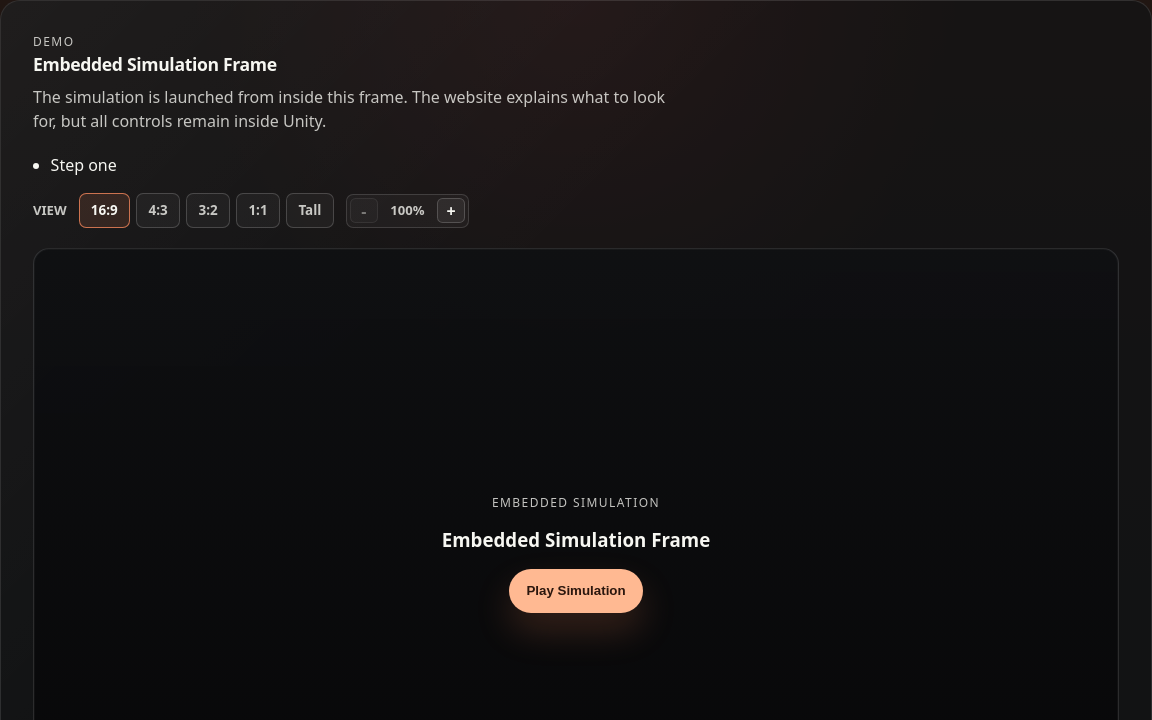
Test: unity embed › lets users increase and decrease the simulator UI size
Click the button named "Increase simulator UI size": coordinates (451, 211) x1=437 y1=198 x2=465 y2=223
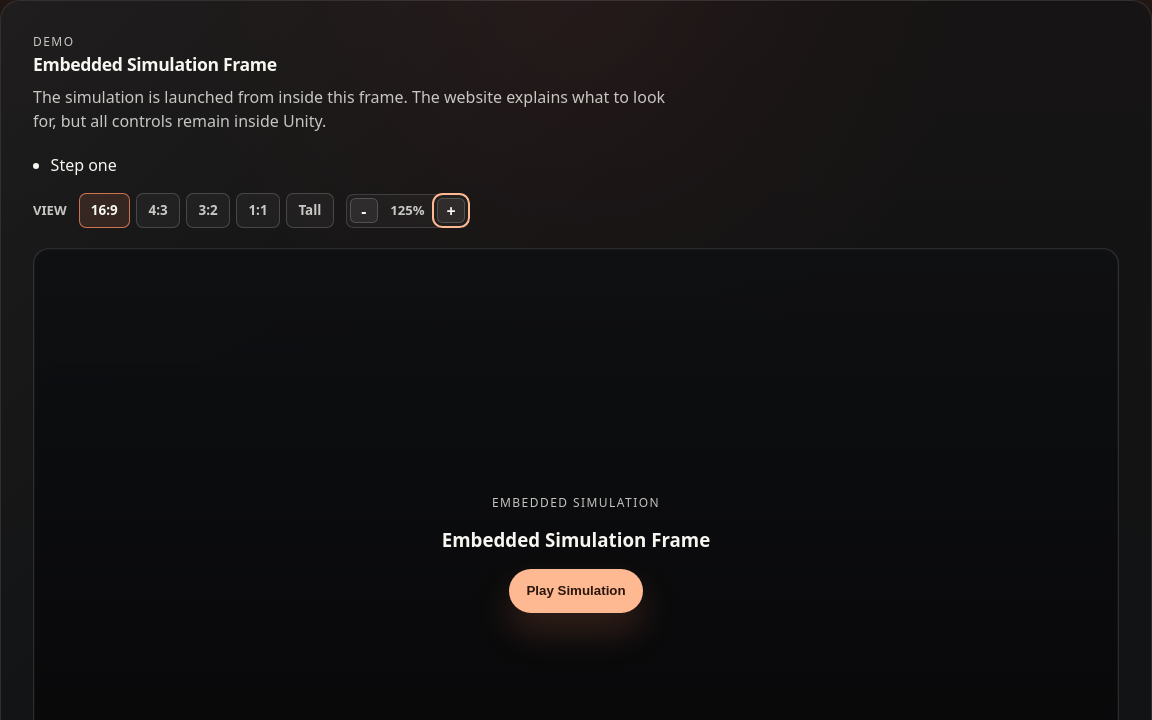
Now the text "125%" is shown, box x1=390 y1=201 x2=424 y2=219
Click the button named "Decrease simulator UI size": coordinates (364, 211) x1=350 y1=198 x2=378 y2=223
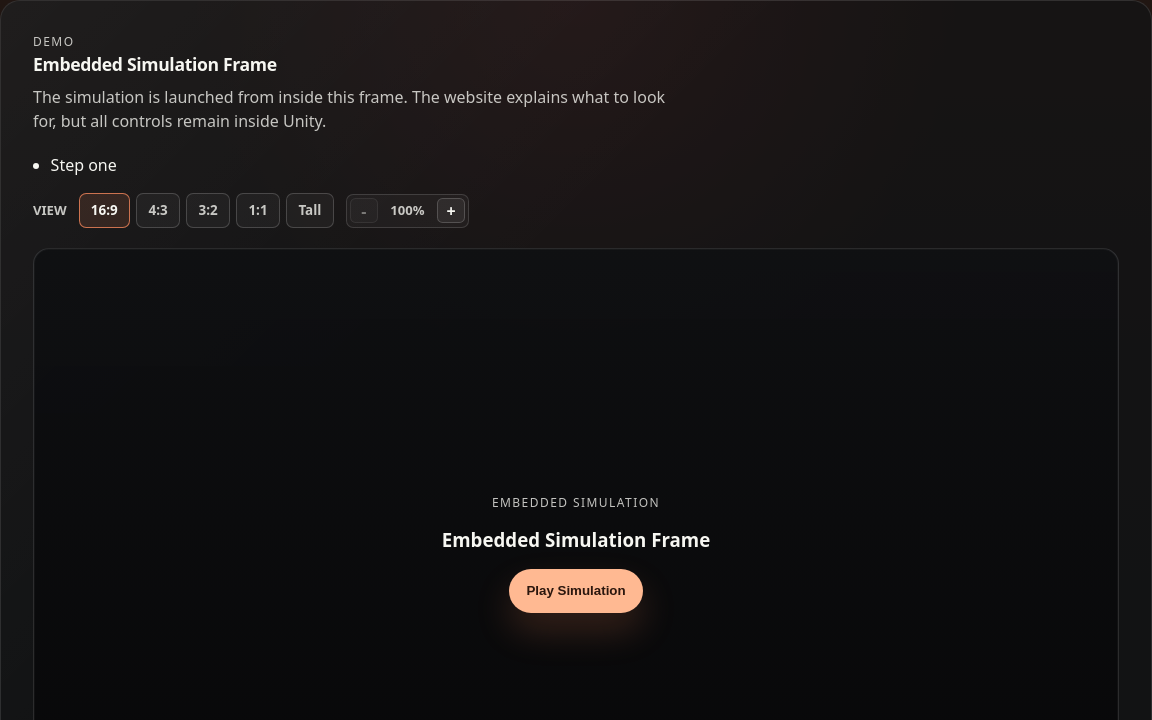
Now the text "100%" is shown, box x1=390 y1=201 x2=424 y2=219
